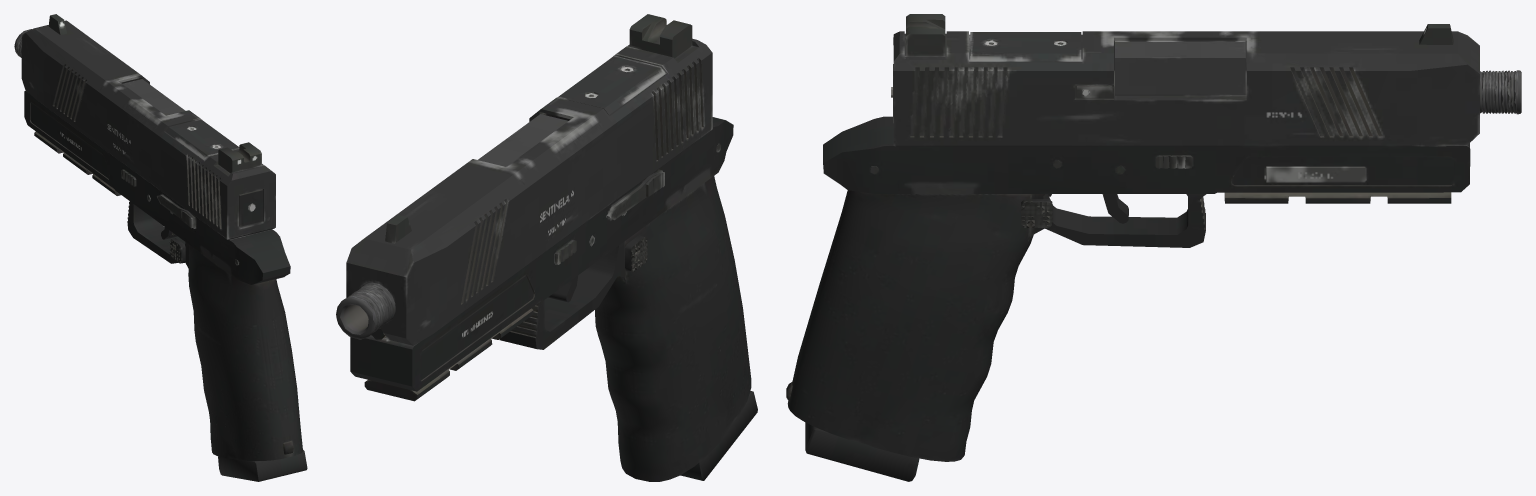
The model's file is pistola_9mm_leve.glb.
The picture shows the model from 3 angles, left to right: view 1: azimuth 30°, elevation 25°; view 2: azimuth 150°, elevation 25°; view 3: azimuth 270°, elevation 25°; orthographic projection. The views are drawn at different scales.
Visible parts, largest first — view 1: pistola_9mm_leve; view 2: pistola_9mm_leve; view 3: pistola_9mm_leve.
Part boxes in pixels (x1,y1,x2,y2): pistola_9mm_leve: (14, 14, 307, 481); pistola_9mm_leve: (336, 14, 757, 481); pistola_9mm_leve: (786, 14, 1521, 481).
Bounding box in the file's own units: 0.031 × 0.1545 × 0.2332.
1 material, 1 textured.
